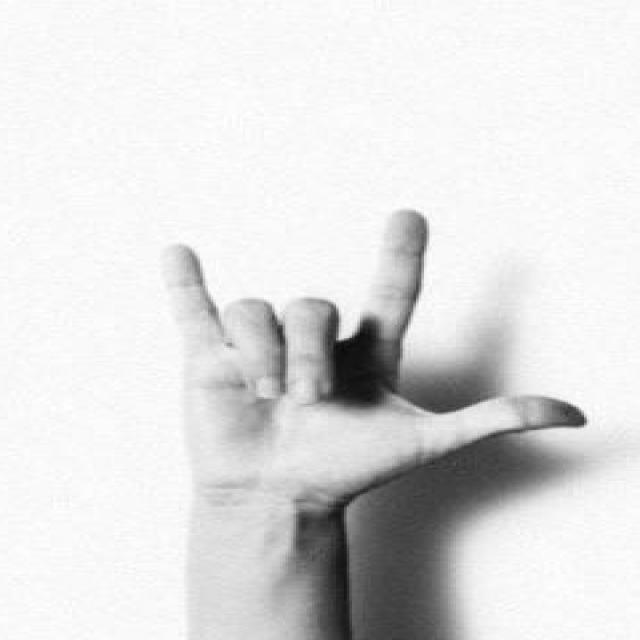i love you: (150, 200, 600, 558)
